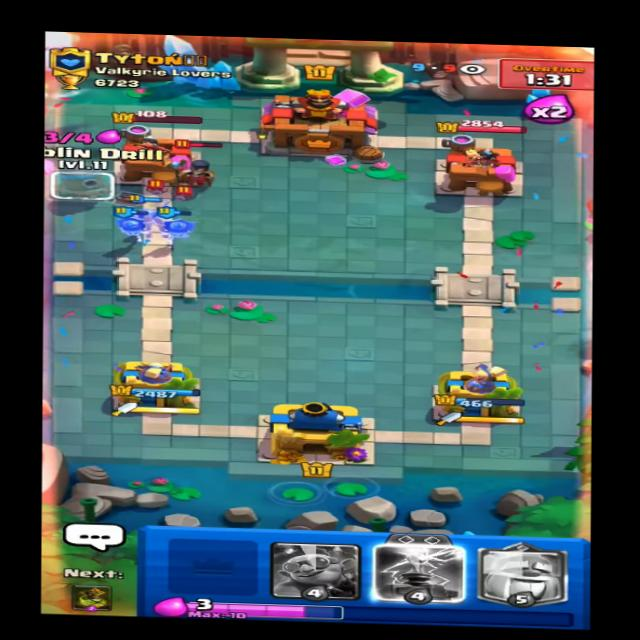Bat: (140, 175, 179, 198), (175, 186, 203, 202)
Nightwitch: (174, 139, 232, 187)
